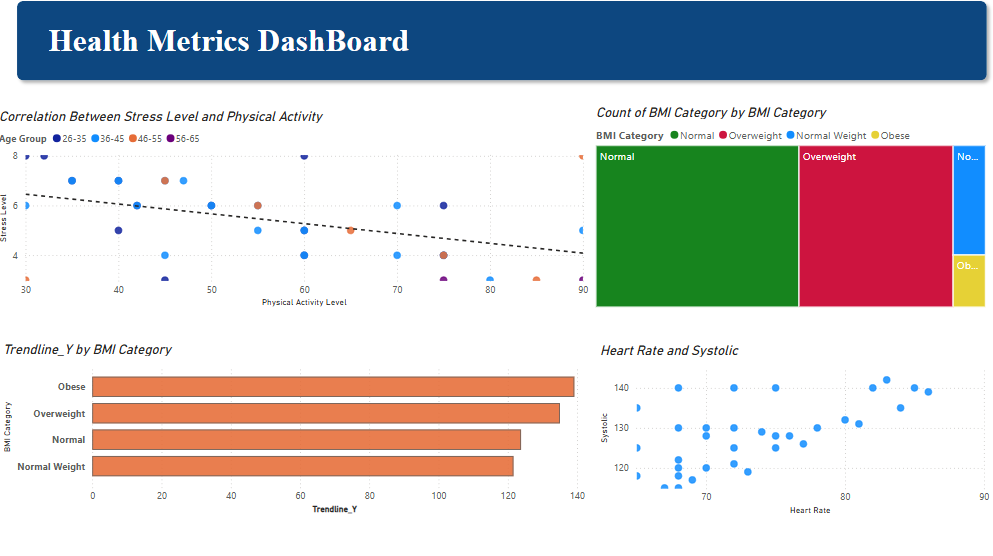

This screenshot's page, from the dashboard's own definition file:
{"tool":"powerbi","page":{"name":"Health Metrics Dashboard","canvas":[1280,720],"ordinal":3},"visuals":[{"type":"shape","title":"Health Metrics DashBoard","box":[25.4,0,1254.2,118.8],"z":0},{"type":"clusteredBarChart","fields":{"Category":["SleepData.BMI Category"],"Y":["SleepData.Trendline_Y"]},"box":[11,442.5,752,225],"z":2},{"type":"treemap","fields":{"Values":["CountNonNull(SleepData.BMI Category)"],"Group":["SleepData.BMI Category"]},"box":[767.3,139.6,506.5,264.2],"z":3},{"type":"scatterChart","fields":{"X":["SleepData.Heart Rate"],"Y":["SleepData.Systolic"]},"box":[773.1,443.1,506.5,225],"z":4},{"type":"scatterChart","title":"Correlation Between Stress Level and Physical Activity","fields":{"X":["SleepData.Physical Activity Level"],"Y":["SleepData.Stress Level"],"Series":["SleepData.Age Group"]},"box":[5.8,145.4,761.5,258.5],"z":5}]}

Visuals, with their boxes in screenshot pixels (x1, y1, x2, y2), scaled from the page's 1280x720 canvas onto the 993x556 screenshot:
"Health Metrics DashBoard" shape: 20:0:992:92
clusteredBarChart - SleepData.BMI Category x SleepData.Trendline_Y: 9:342:592:515
treemap - CountNonNull(SleepData.BMI Category) x SleepData.BMI Category: 595:108:988:312
scatterChart - SleepData.Heart Rate x SleepData.Systolic: 600:342:992:516
"Correlation Between Stress Level and Physical Activity" scatterChart: 4:112:595:312
